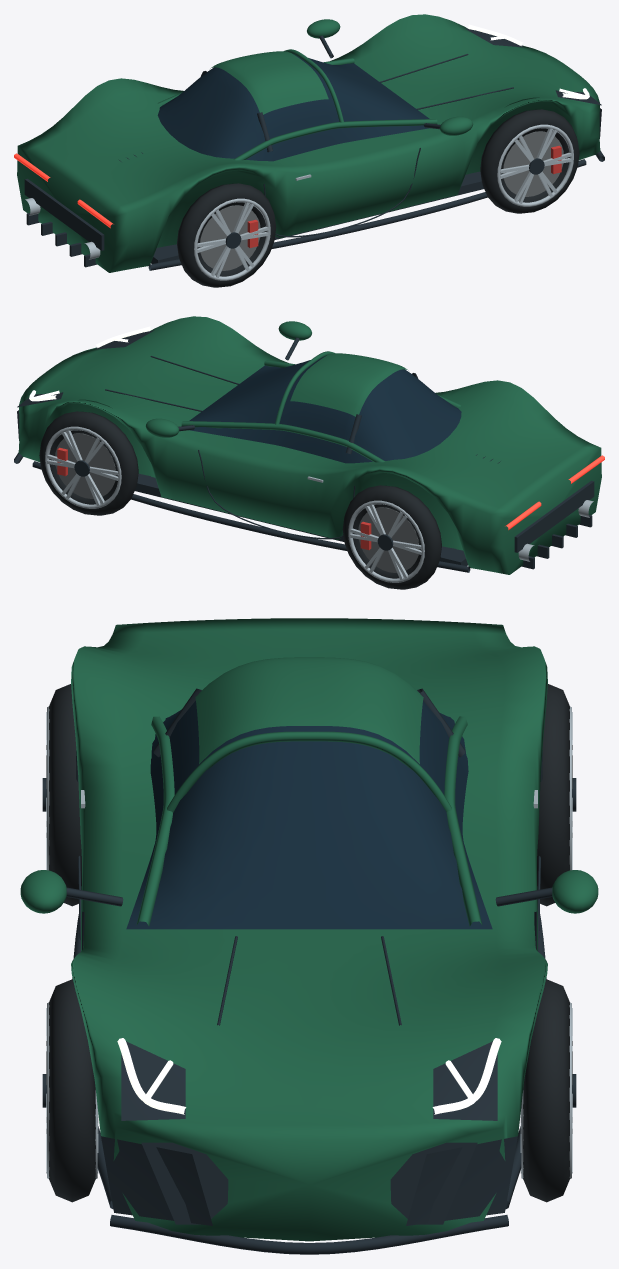
File: car08.glb
3 views of the same model, one above another, from view 1: azimuth 30°, elevation 25°; view 2: azimuth 150°, elevation 25°; view 3: azimuth 270°, elevation 25° (orthographic). The views are drawn at different scales.
Visible parts, largest first — view 1: continuous-sculpted-body, CAR08, curved-windows, roof-panel; view 2: continuous-sculpted-body, CAR08, curved-windows, roof-panel; view 3: continuous-sculpted-body, CAR08, curved-windows, roof-panel.
Part boxes in pixels (box(x1,y1,x2,y2)): continuous-sculpted-body: box(17, 14, 600, 272); CAR08: box(14, 19, 604, 287); curved-windows: box(157, 53, 429, 161); roof-panel: box(210, 51, 328, 114); continuous-sculpted-body: box(18, 316, 601, 574); CAR08: box(14, 321, 604, 589); curved-windows: box(189, 355, 461, 463); roof-panel: box(290, 353, 408, 416); continuous-sculpted-body: box(71, 618, 547, 1241); CAR08: box(20, 684, 598, 1254); curved-windows: box(126, 701, 492, 929); roof-panel: box(195, 657, 423, 763).
Bounding box in the file's own units: 4.62 × 1.32 × 2.22.
